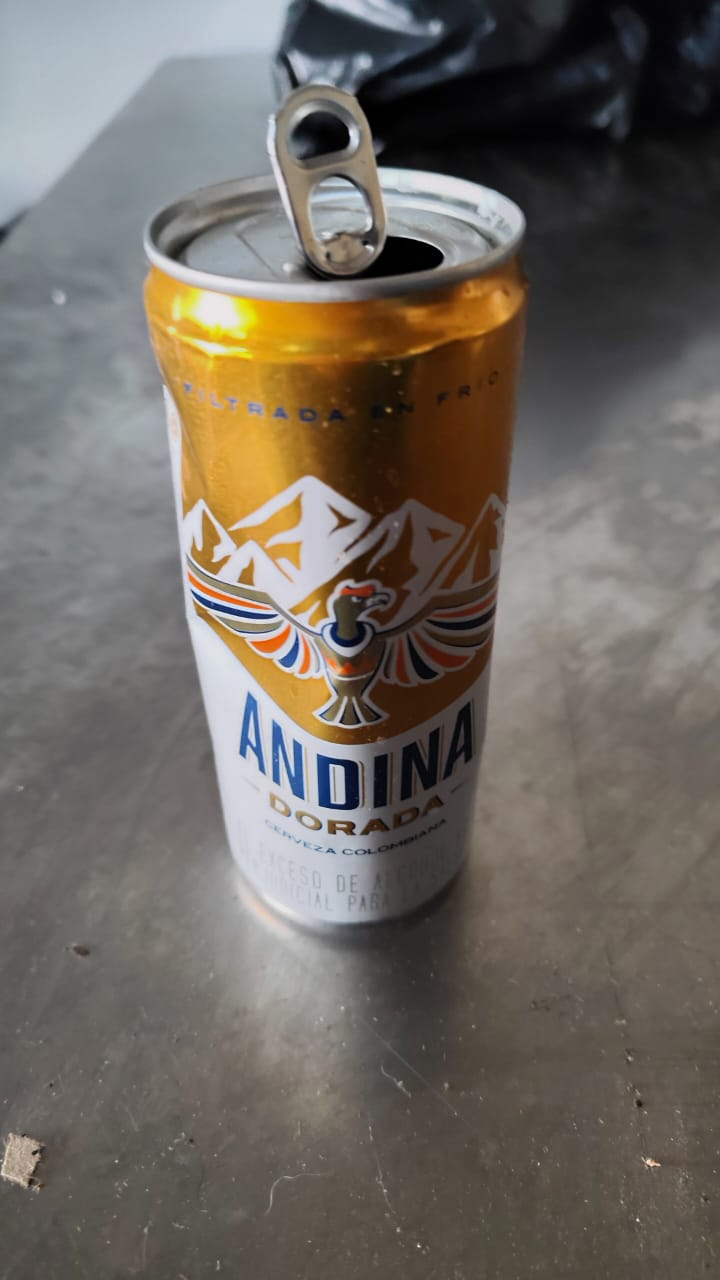Metal: (139, 87, 528, 930)
